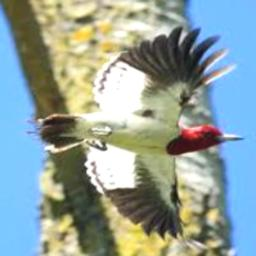Woodpecker: (28, 27, 244, 248)
